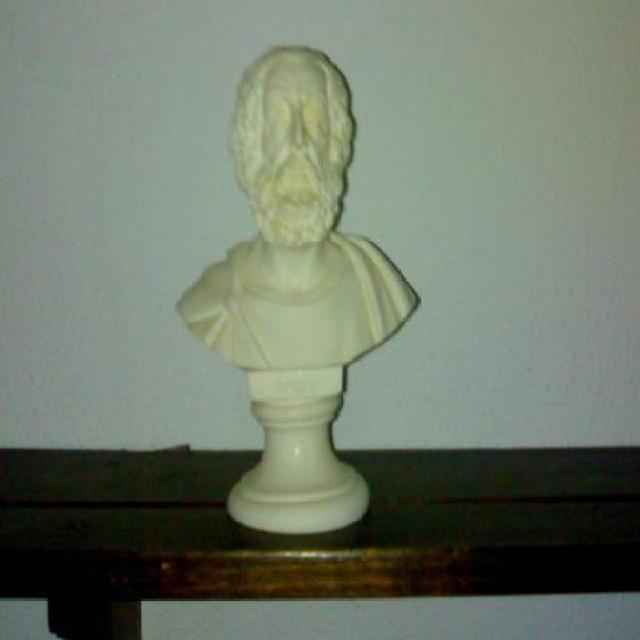Person: (183, 28, 415, 444)
